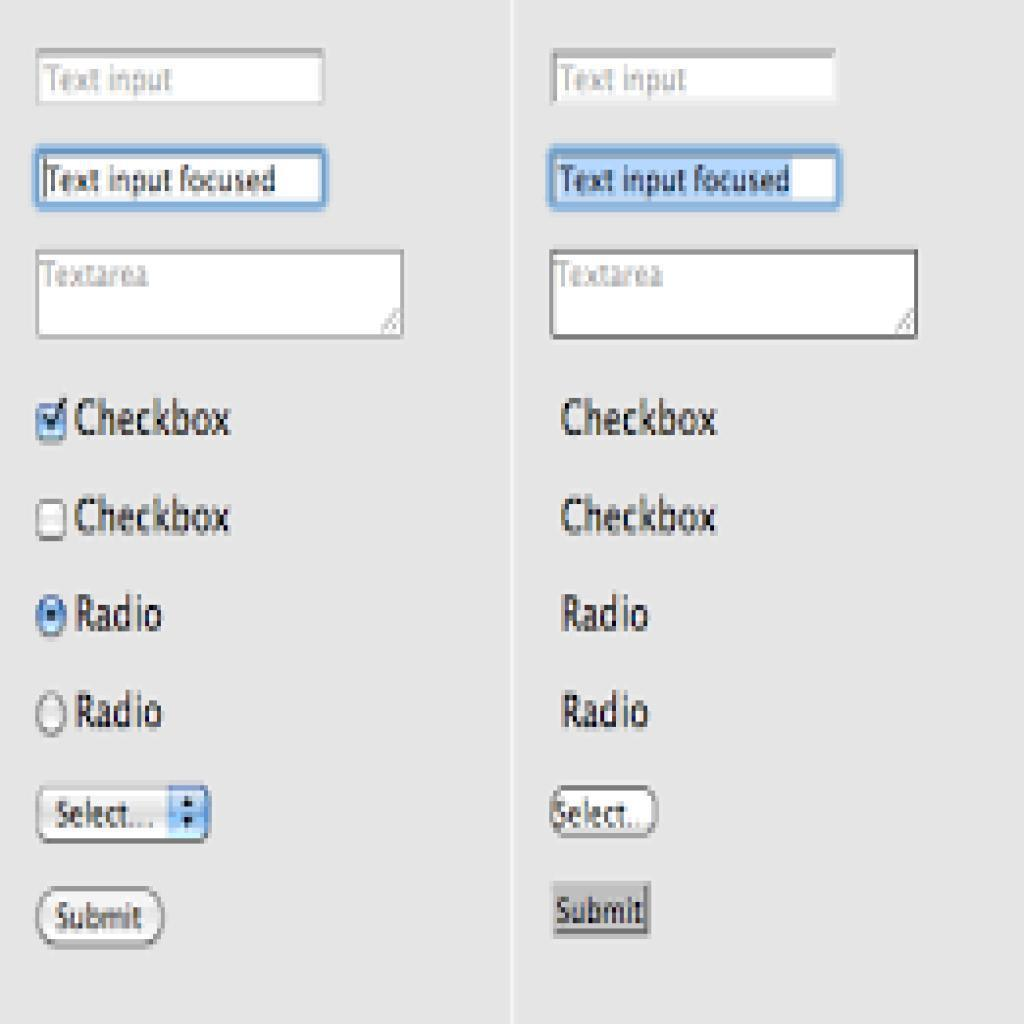button: (35, 888, 166, 948), (553, 785, 662, 838), (553, 883, 650, 935)
checkbox: (36, 396, 70, 445), (37, 502, 69, 542)
dropdown: (36, 786, 211, 842)
input: (549, 143, 847, 209), (35, 146, 326, 210), (553, 46, 837, 104), (38, 50, 326, 103)
radio: (35, 691, 72, 737), (37, 594, 71, 640)
